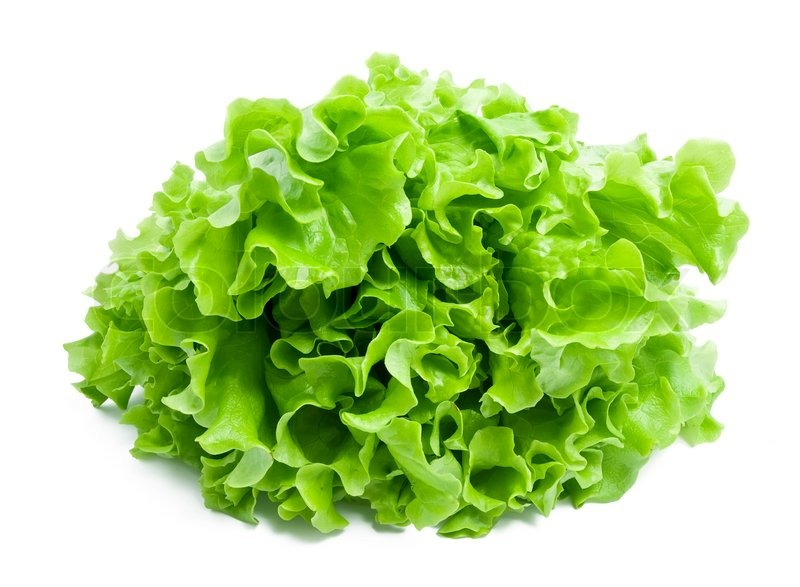chopped lettuce: (82, 81, 734, 518)
